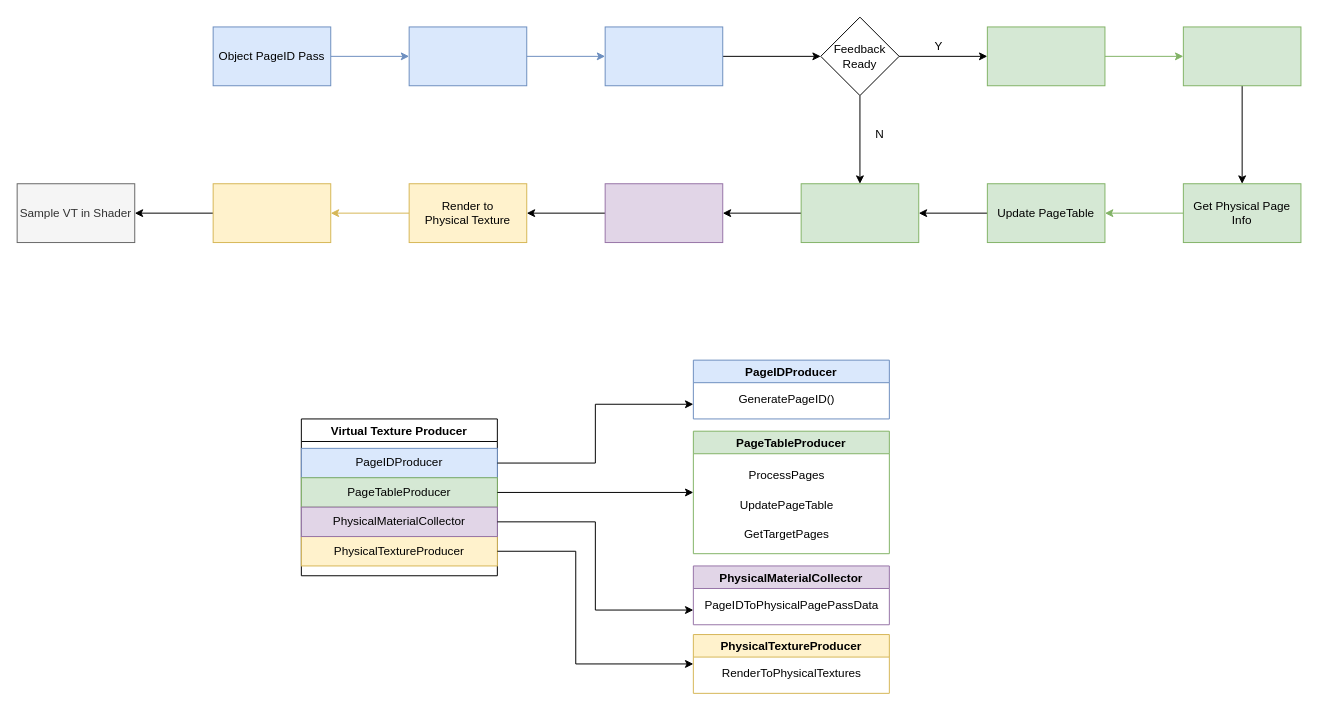
Some shapes in this 1318 by 711 pixel diagram are drawn without their labels. Here are the shapes that lost their labels. From the top down, the centre of each, then its label:
(467,56): Render To PageRT
(663,56): PageRT Feedback
(1045,56): Using PageRT to Update Page Set
(1241,56): Adaptive/Clip
(271,213): Setup Physical Texture Parameters
(663,213): Collect Physical Material for Pages
(859,213): Schedule PageRenderingJob
